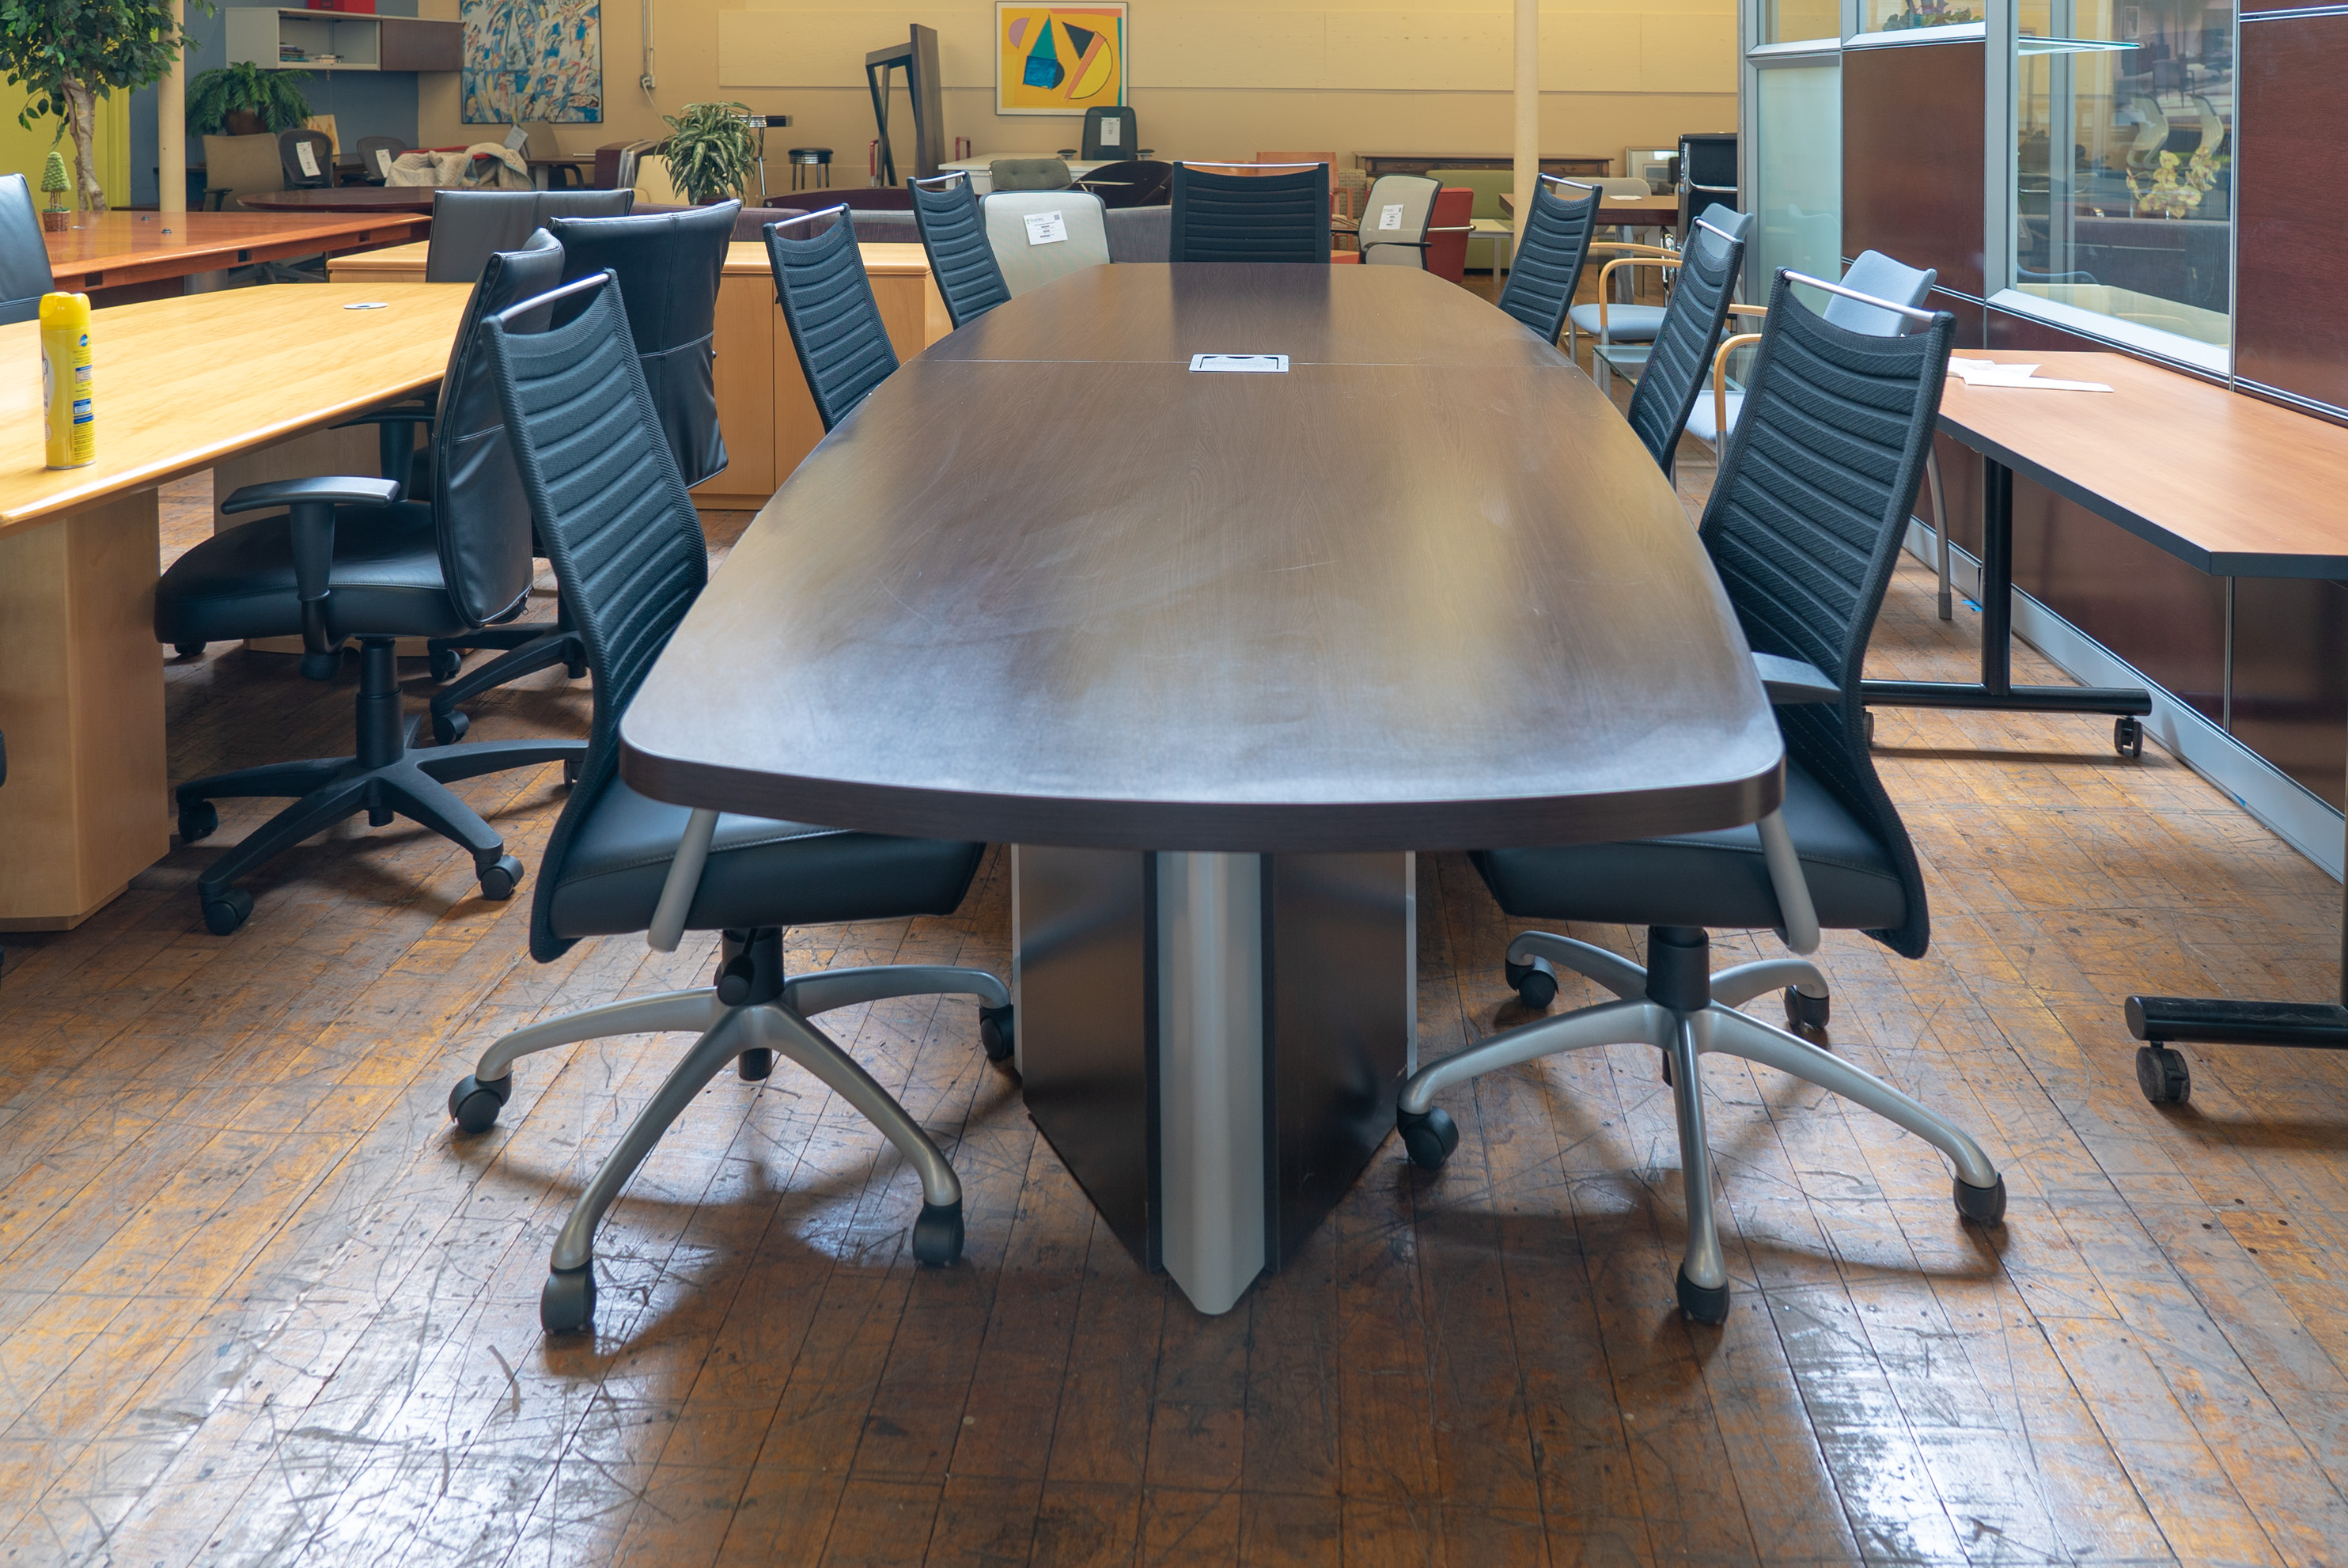conference_table: (622, 258, 1786, 1321), (1861, 343, 2348, 1113), (2, 282, 484, 984)
